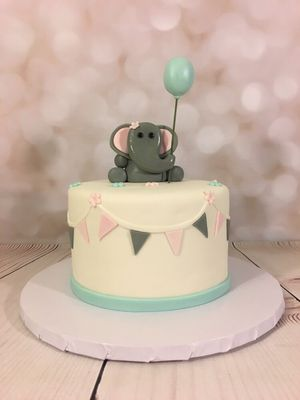curry: (107, 121, 184, 183)
sushi: (68, 177, 232, 308)
